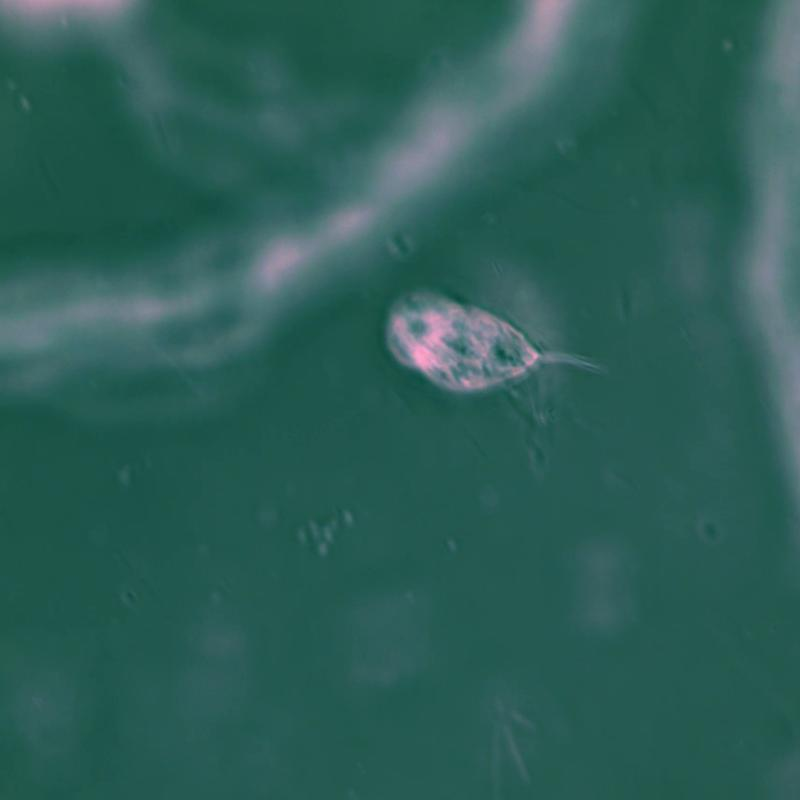depth:40: (343, 262, 681, 439)
